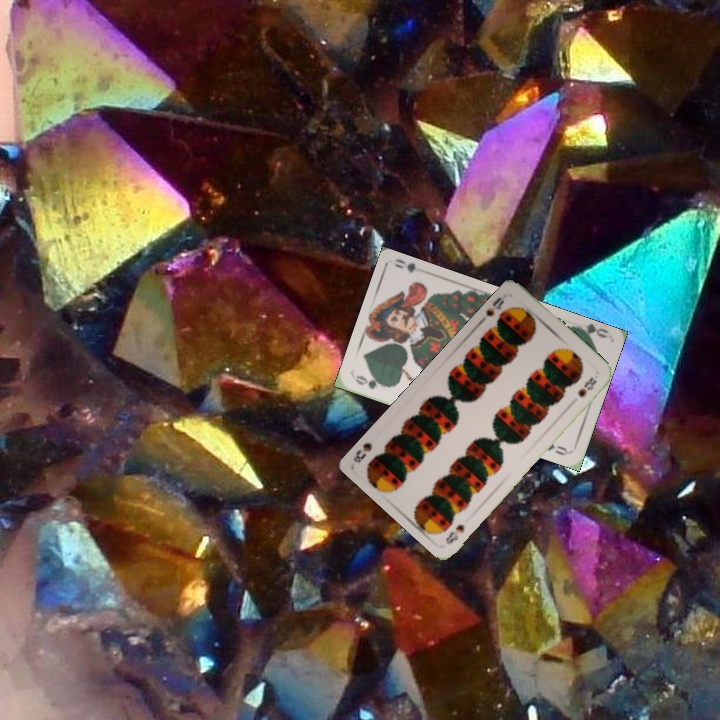GO: (570, 321, 610, 343), (351, 371, 392, 392)
S8: (481, 292, 507, 319), (441, 520, 467, 547)
